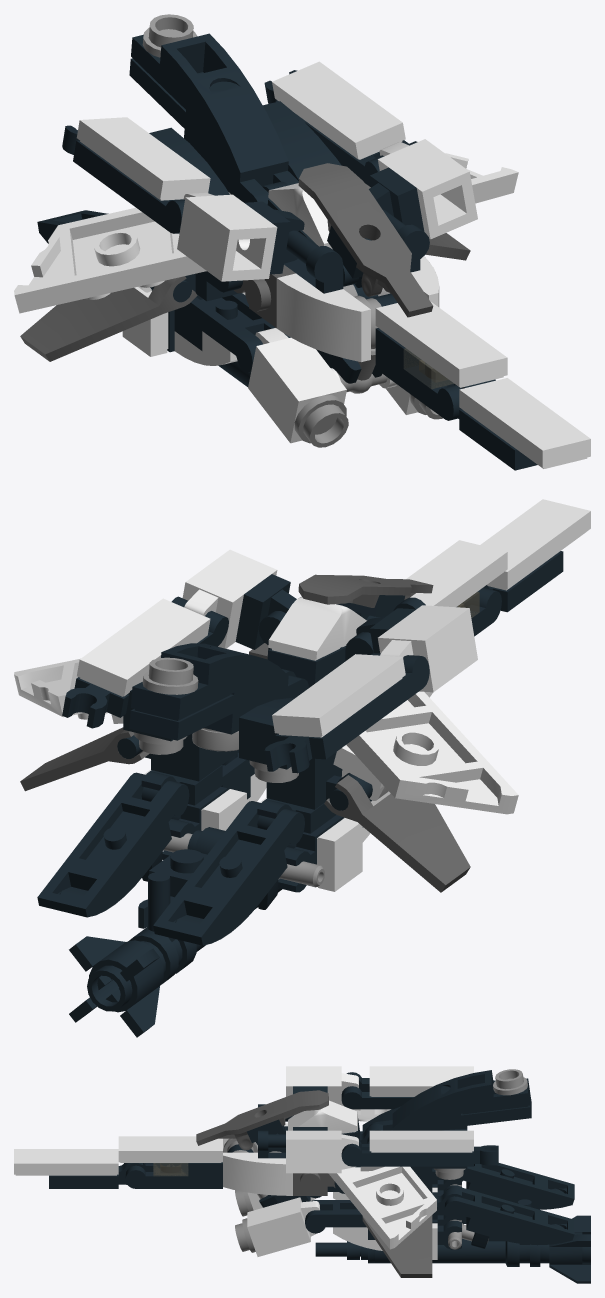
File: mvf-01.dae
3 views of the same model, one above another, from view 1: azimuth 30°, elevation 25°; view 2: azimuth 150°, elevation 25°; view 3: azimuth 270°, elevation 25° (orthographic). The views are drawn at different scales.
Size of the model in its own units: 209 by 331 by 127.
